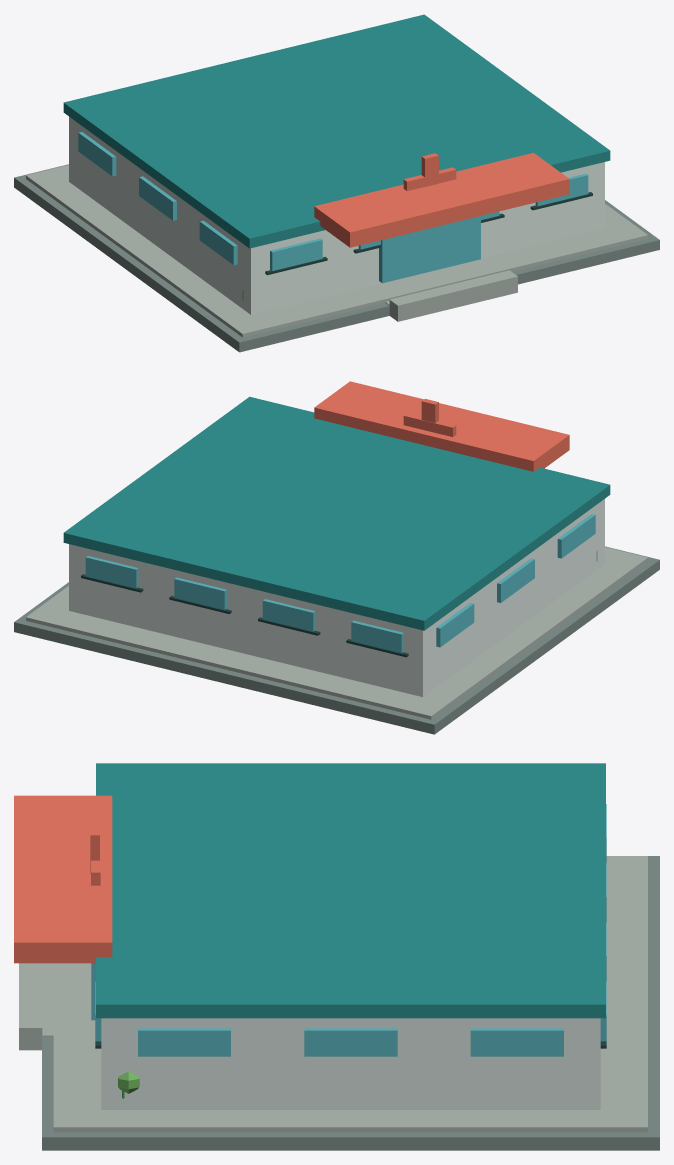
File: clinic_lv1.glb
3 renders of one model, top to bottom at view 1: azimuth 30°, elevation 25°; view 2: azimuth 150°, elevation 25°; view 3: azimuth 270°, elevation 25°, orthographic. The views are drawn at different scales.
Visible parts, largest first — view 1: teal, white, concrete, coral, glass, pavement, dark; view 2: teal, white, concrete, coral, pavement, glass, dark; view 3: teal, white, concrete, coral, pavement, glass.
Part boxes in pixels (x1,y1,x2,y2): teal: [63, 14, 610, 248]; white: [69, 116, 604, 314]; concrete: [26, 165, 647, 337]; coral: [314, 152, 569, 247]; glass: [78, 132, 588, 283]; pavement: [14, 164, 659, 352]; dark: [265, 192, 592, 275]; teal: [63, 396, 610, 630]; white: [69, 499, 604, 696]; concrete: [26, 547, 647, 719]; coral: [314, 381, 569, 471]; pavement: [14, 546, 659, 734]; glass: [85, 514, 595, 653]; dark: [81, 574, 408, 657]; teal: [96, 763, 605, 1018]; white: [101, 1018, 600, 1109]; concrete: [19, 856, 647, 1132]; coral: [14, 795, 112, 963]; pavement: [42, 856, 659, 1150]; glass: [91, 804, 606, 1056].
Bounding box in the file's own units: 9.8 × 2.91 × 9.51.
